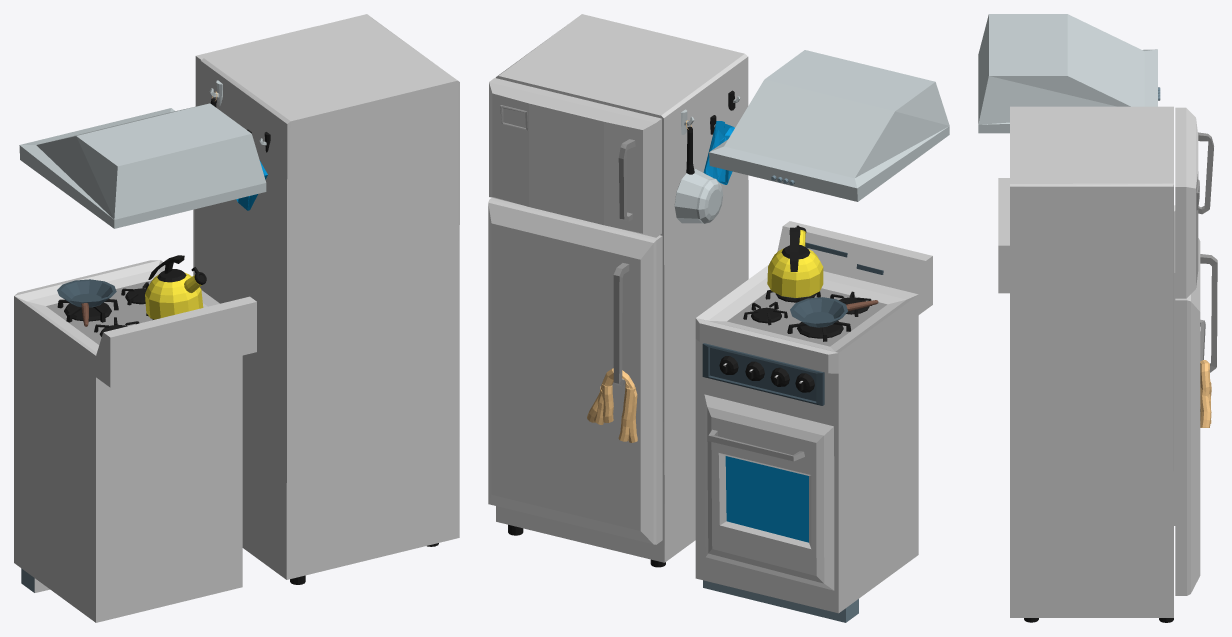
The model's file is kitchen.glb.
3 renders of one model, left to right at view 1: azimuth 30°, elevation 25°; view 2: azimuth 150°, elevation 25°; view 3: azimuth 270°, elevation 25°, orthographic. The views are drawn at different scales.
Visible parts, largest first — view 1: group610829822, group1390275597, group1015041580, group1684725353; view 2: group610829822, group1390275597, group1015041580, group1684725353; view 3: group610829822, group1015041580, group1390275597.
Part boxes in pixels (<box>): group610829822: <box>193,14,459,584</box>; group1390275597: <box>14,255,256,622</box>; group1015041580: <box>19,103,266,228</box>; group1684725353: <box>57,279,116,326</box>; group610829822: <box>488,14,748,567</box>; group1390275597: <box>695,221,932,622</box>; group1015041580: <box>709,50,949,201</box>; group1684725353: <box>790,297,878,327</box>; group610829822: <box>1010,106,1217,622</box>; group1015041580: <box>978,14,1160,133</box>; group1390275597: <box>998,178,1205,525</box>.
Bounding box in the file's own units: 5.65 × 7.22 × 3.41.
